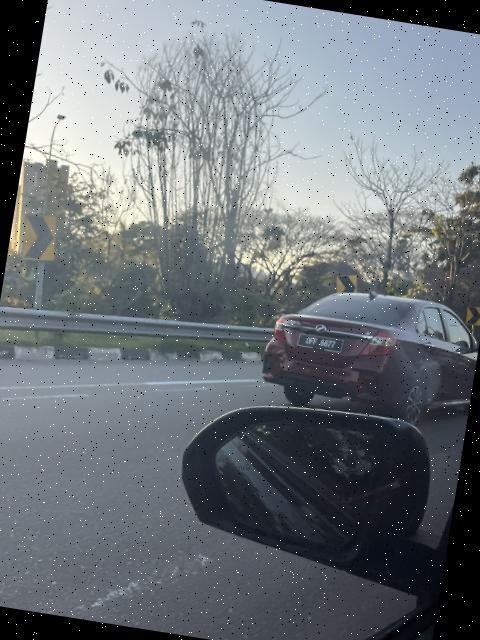License_Plate: (288, 327, 350, 362)
car: (252, 273, 480, 430)
